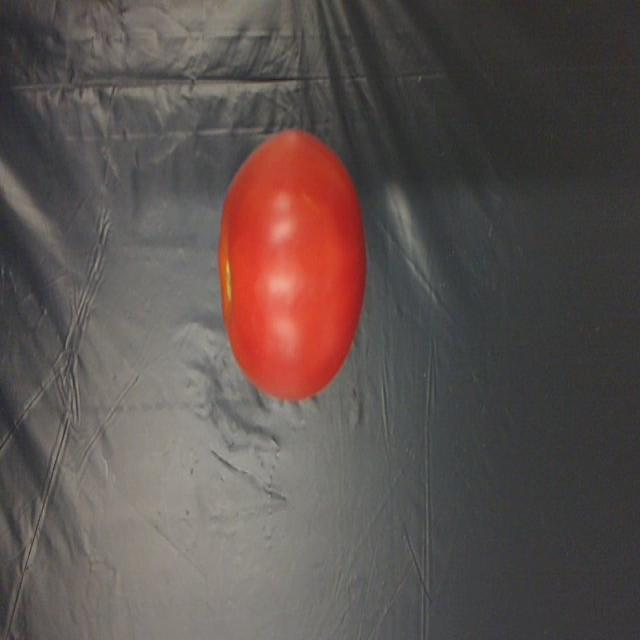kirmizi: (205, 118, 372, 385)
